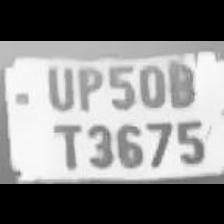0: (134, 59, 168, 107)
3: (81, 117, 113, 169)
5: (103, 60, 137, 110), (172, 114, 206, 164)
6: (112, 117, 144, 169)
7: (141, 115, 172, 167)
B: (165, 57, 197, 106)
P: (74, 61, 104, 112)
T: (46, 118, 84, 170)
U: (42, 61, 76, 112)
